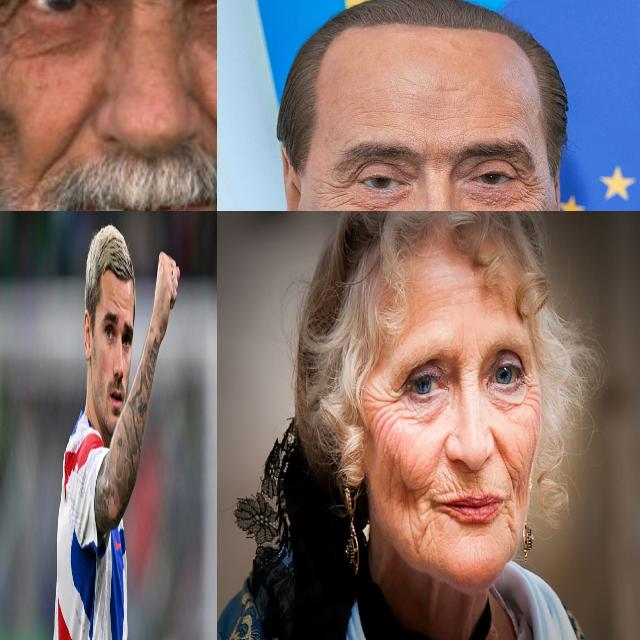crows_feet: (375, 379, 403, 425), (317, 173, 353, 204), (518, 172, 546, 200), (0, 0, 17, 31), (525, 376, 538, 414)
forehead: (452, 294, 483, 306), (110, 294, 124, 312)
frown_line: (460, 361, 475, 381)
gummy_smile: (38, 103, 88, 169), (491, 432, 514, 482), (197, 103, 217, 160), (434, 441, 446, 475)
masseter: (402, 470, 427, 500), (387, 448, 397, 498), (516, 458, 526, 496)
sad_smile: (502, 500, 514, 537), (421, 506, 431, 539)
smoker_lines: (452, 473, 484, 497)
